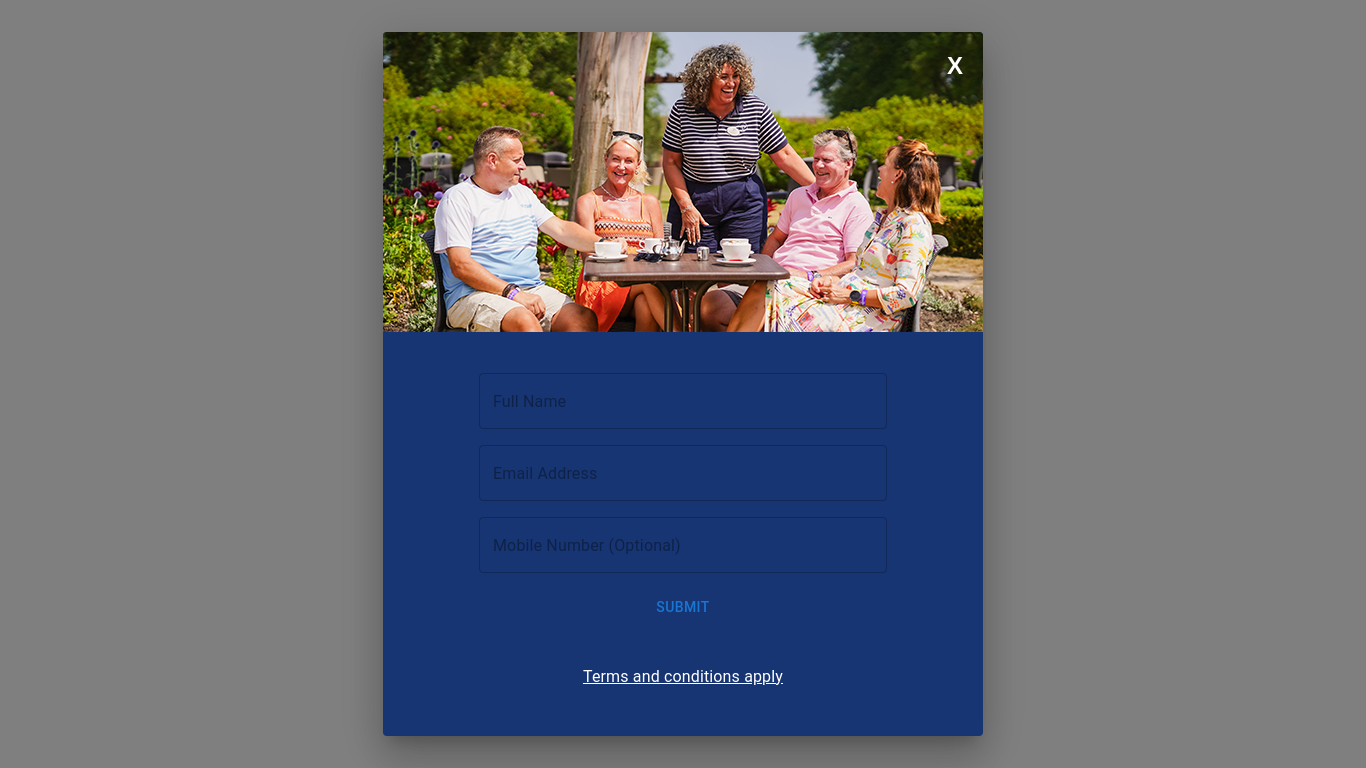
Scenario: SaveOnNextBreakModal › shows an error snackbar when submission fails
The width and height of the screenshot is (1366, 768).
(page scrolled)
Type "John Smith" into the field with placeholder "Full Name".
click(683, 401); type("John Smith")  # box [479,373,887,429]
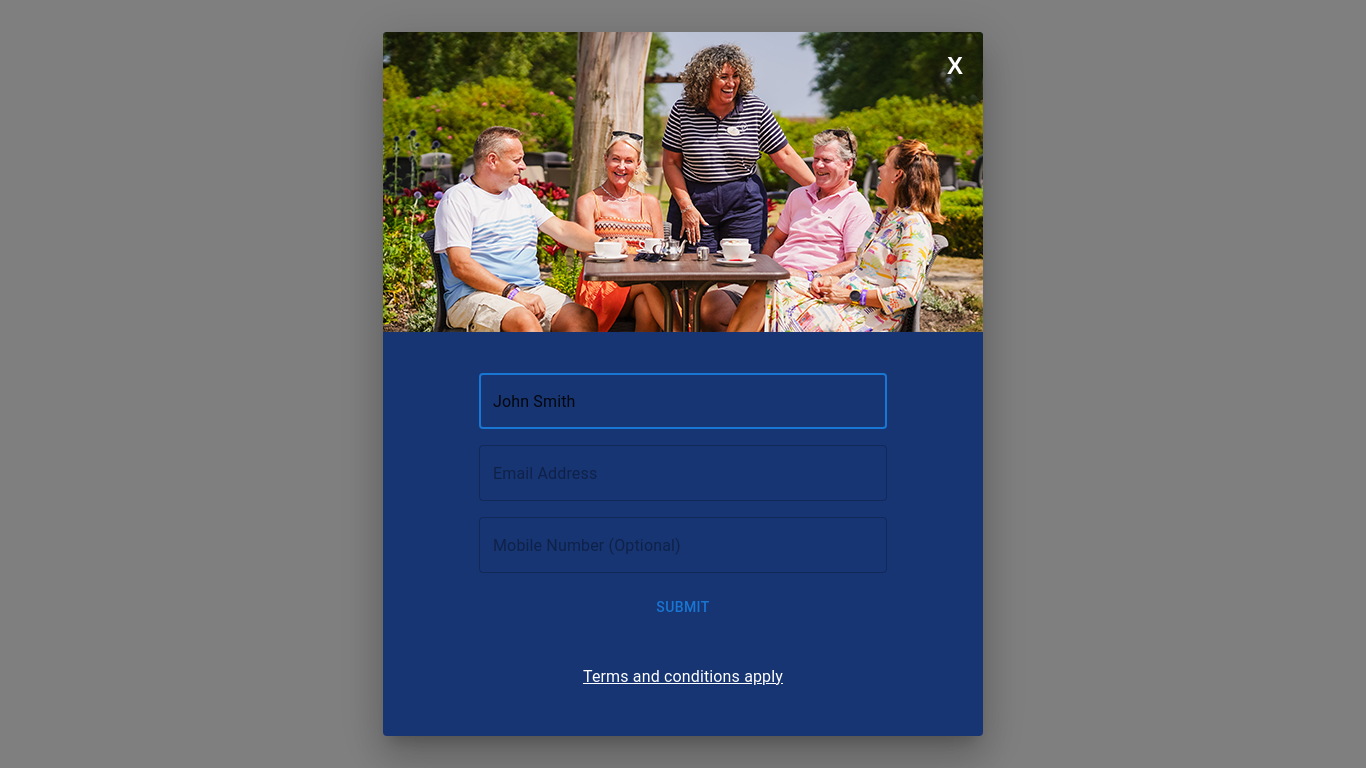
Type "john@test.com" into the field with placeholder "Email Address".
click(683, 473); type("john@test.com")  # box [479,445,887,501]
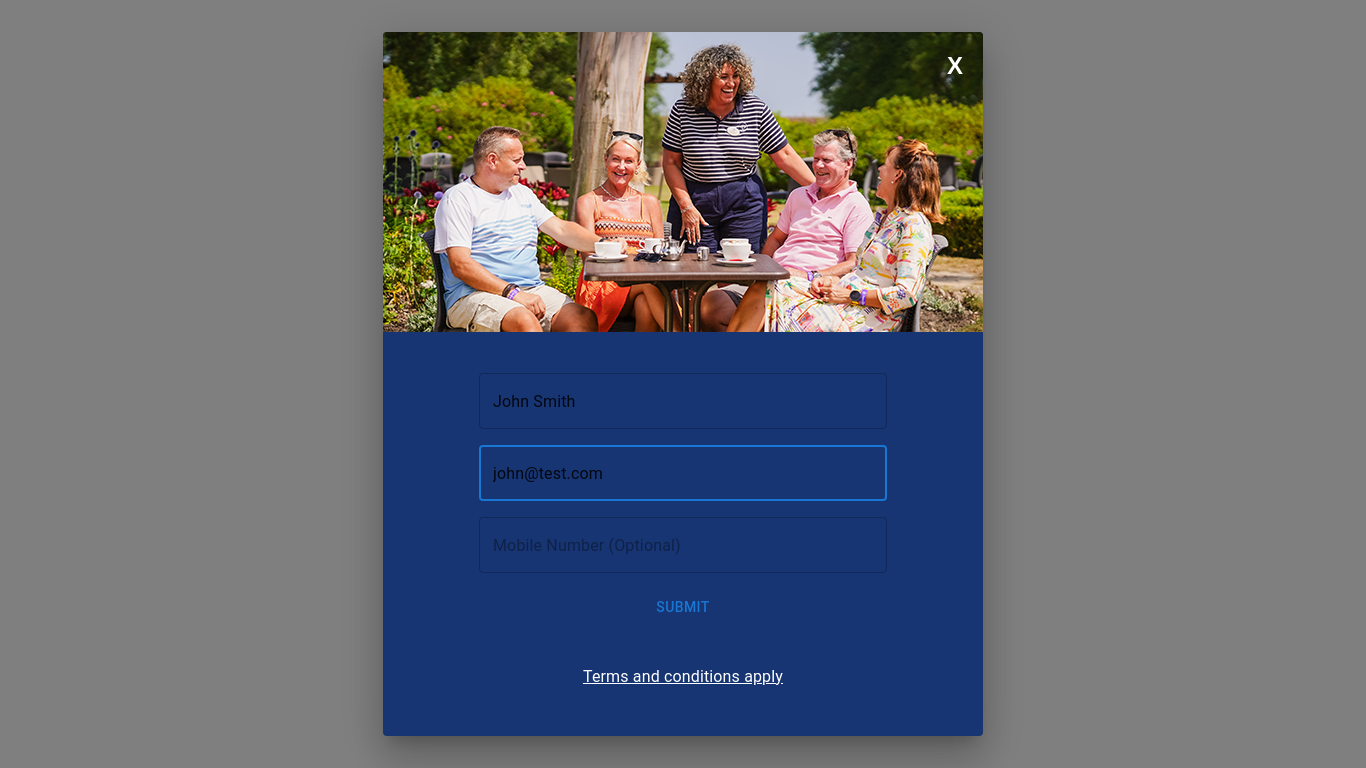
Click the button "Submit".
click(683, 607)  # box [479,589,887,626]
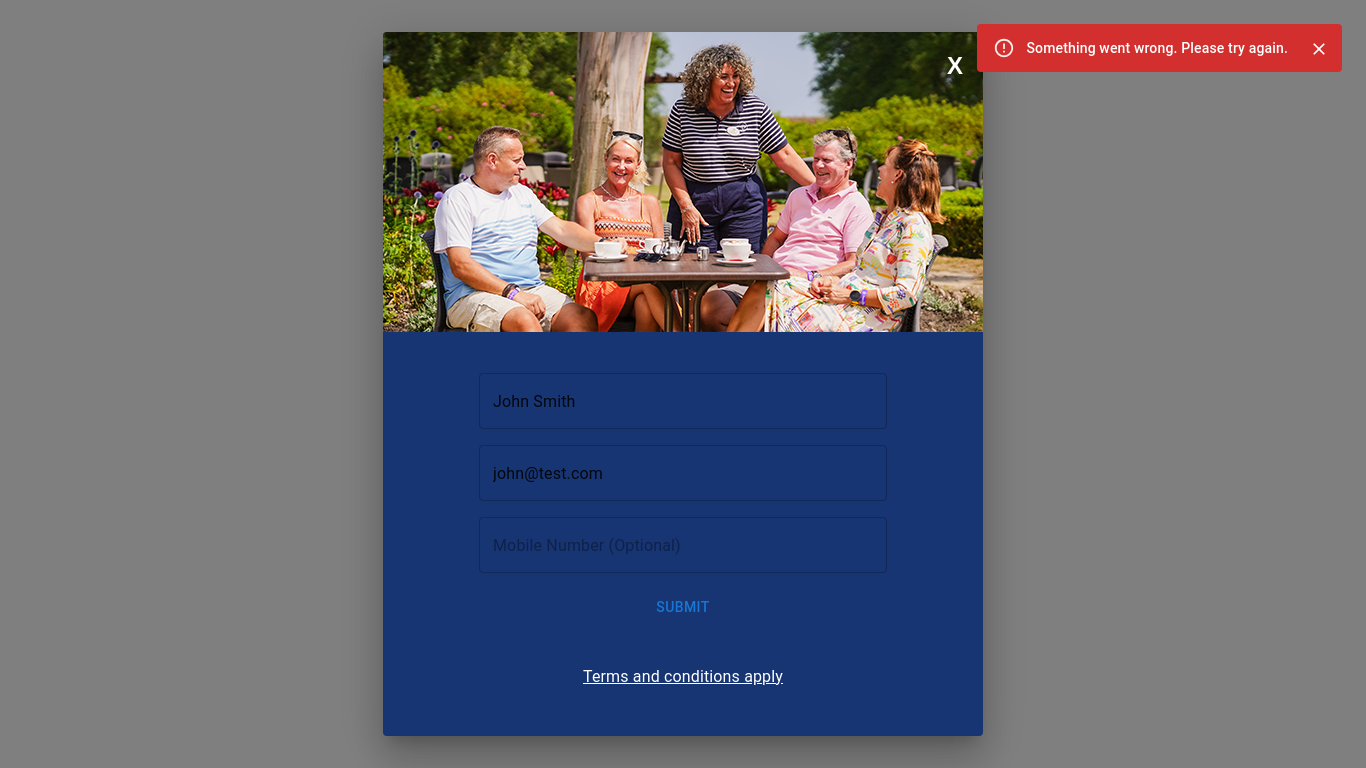
Check: the text "Something went wrong. Please try again." is shown, box [1026,40,1288,56]
